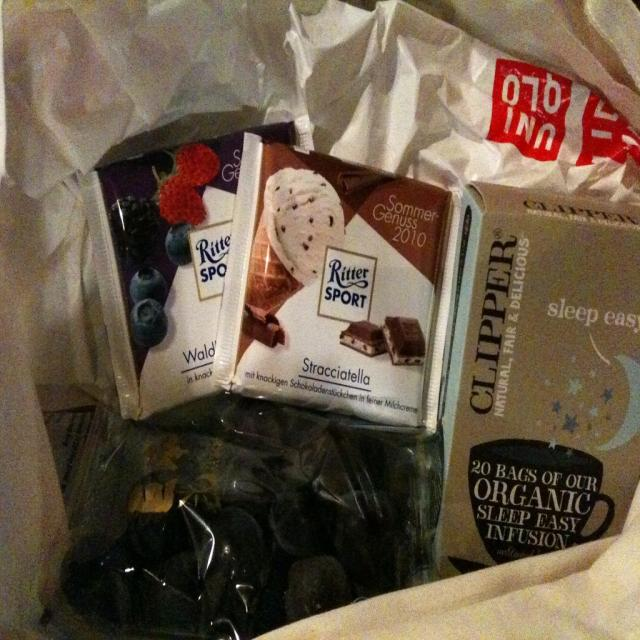rittersport: (318, 248, 378, 329), (190, 221, 234, 302)
